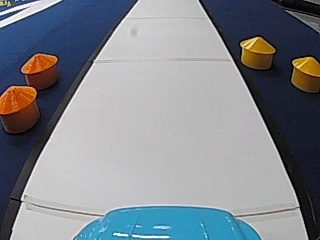granary: (0, 83, 39, 134), (19, 50, 58, 88), (238, 34, 276, 69), (288, 53, 320, 91)
